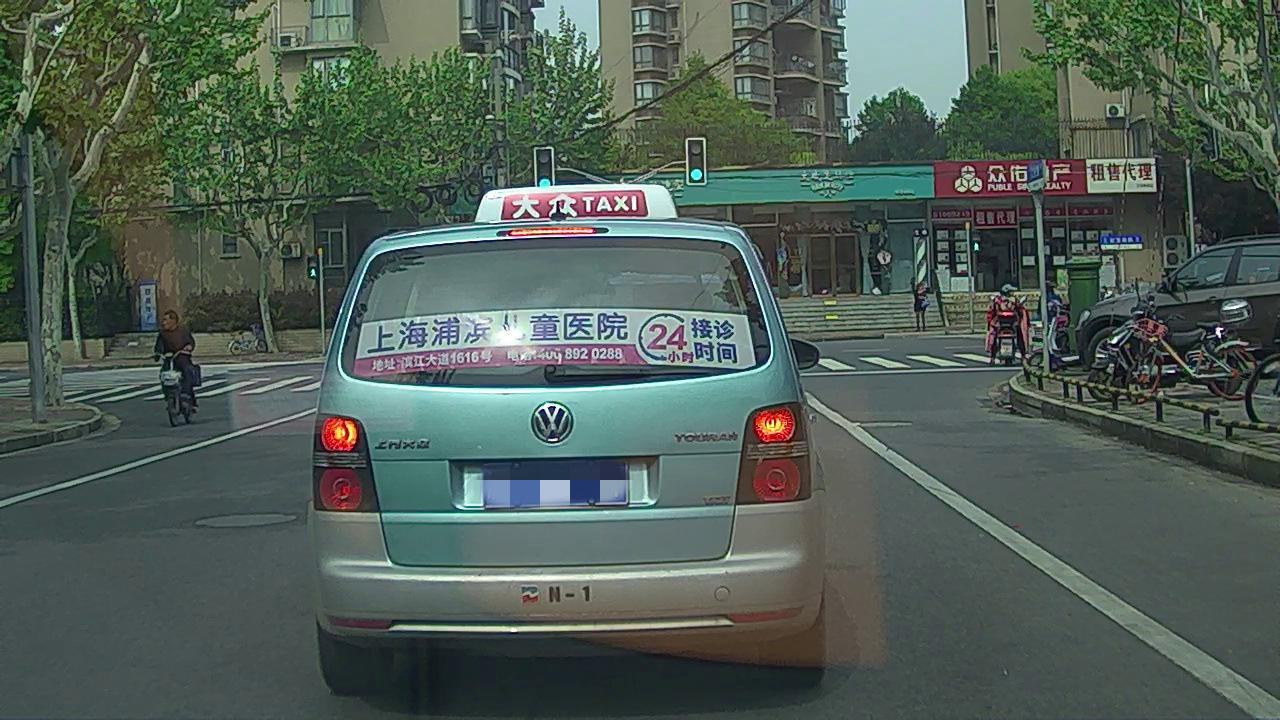traffic_light: (688, 141, 706, 185), (533, 149, 553, 186)
